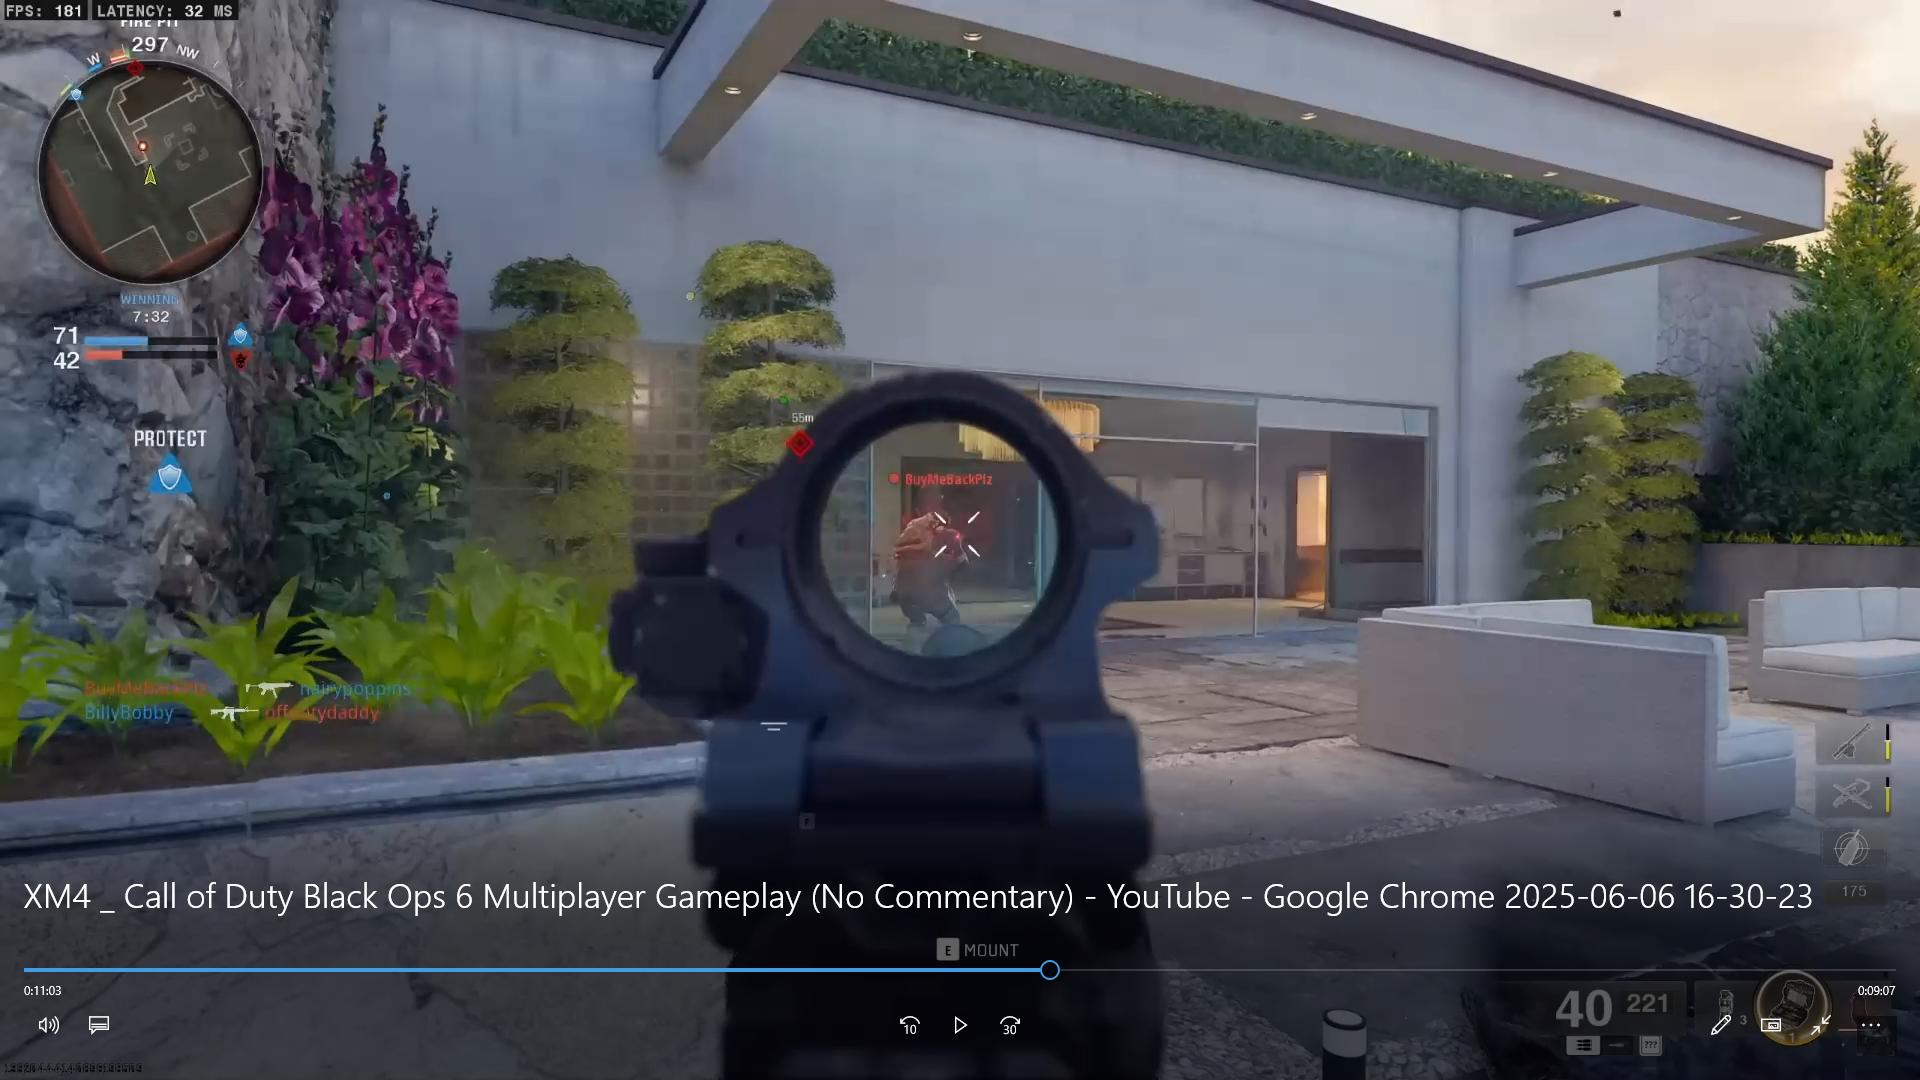Enemy: (887, 485, 992, 632)
